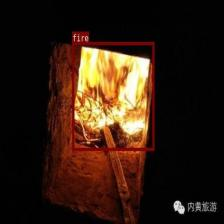fire: (72, 41, 154, 150)
